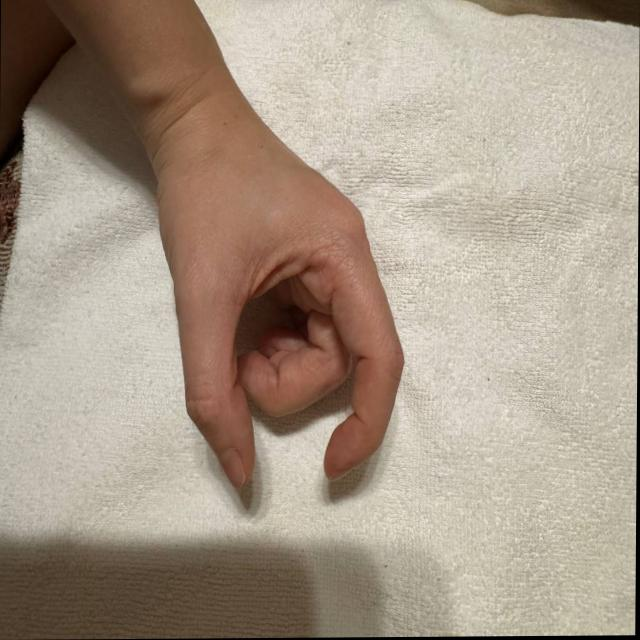uh: (157, 134, 417, 530)
